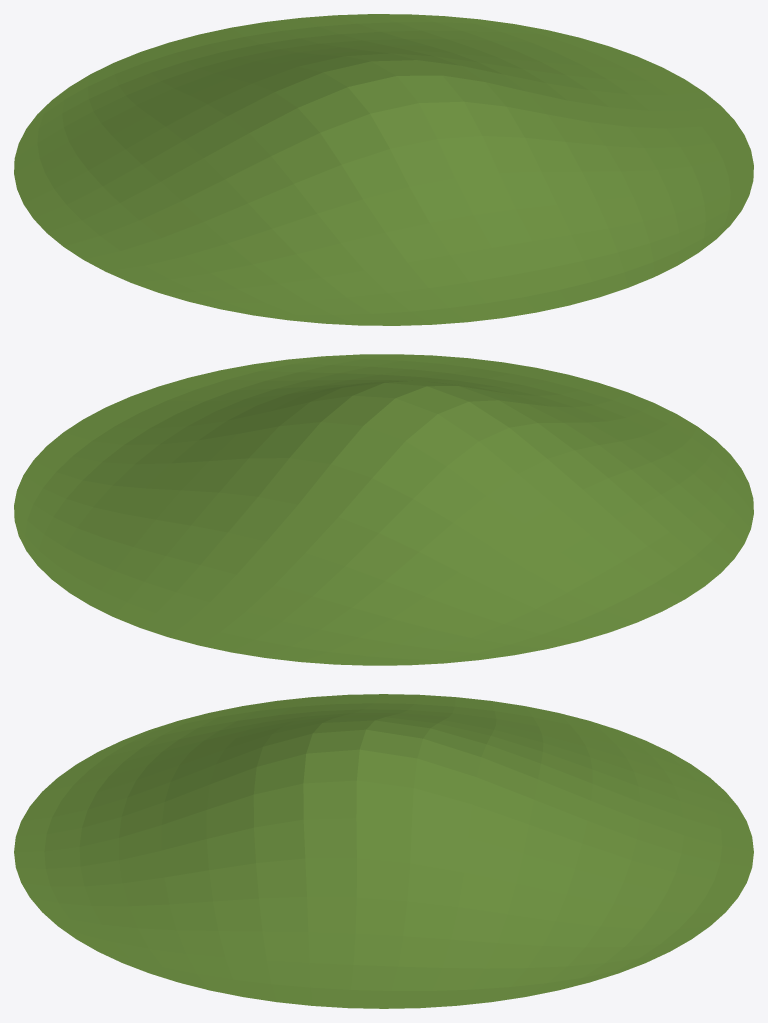
Rendered from hill.glb.
3 views of the same model, one above another, from view 1: azimuth 30°, elevation 25°; view 2: azimuth 150°, elevation 25°; view 3: azimuth 270°, elevation 25° (orthographic).
Visible parts, largest first — view 1: Circle; view 2: Circle; view 3: Circle.
Part boxes in pixels (x1,y1,x2,y2): Circle: [14, 14, 753, 325]; Circle: [14, 354, 753, 665]; Circle: [14, 694, 753, 1008].
Size of the model in its own units: 60.01 by 9.24 by 60.
